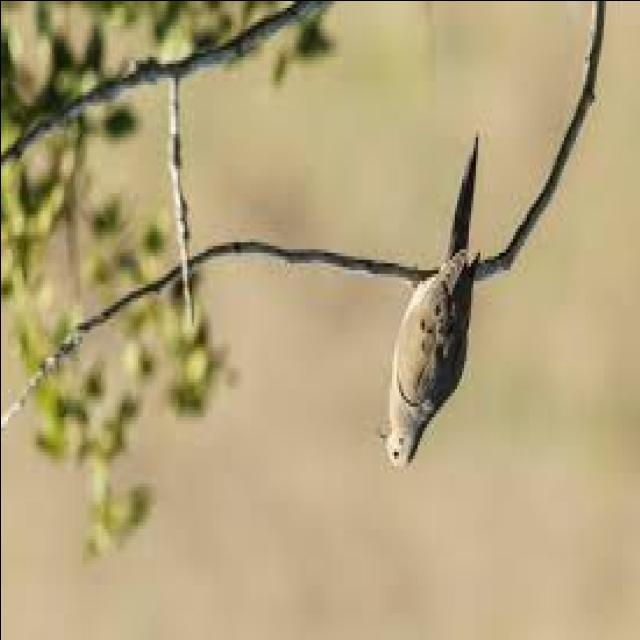pigeon: (383, 130, 487, 480)
